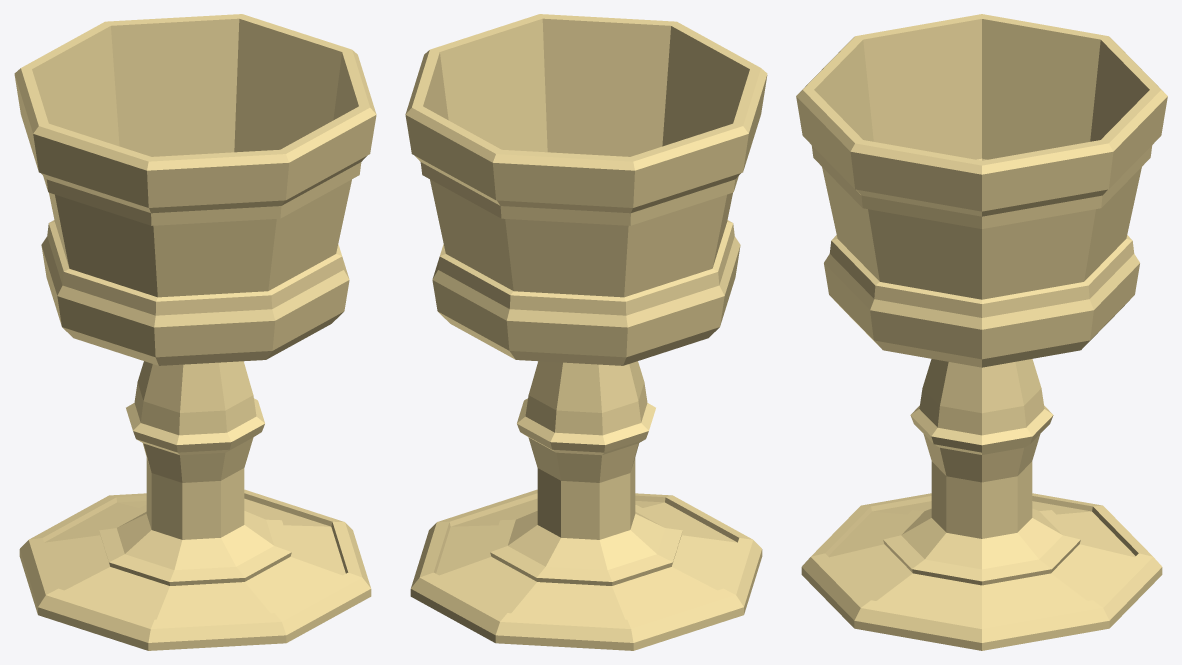
The model's file is goblet.fbx.
The picture shows the model from 3 angles, left to right: view 1: azimuth 30°, elevation 25°; view 2: azimuth 150°, elevation 25°; view 3: azimuth 270°, elevation 25°; orthographic projection.
Parts seen in each view (by area): view 1: goblet; view 2: goblet; view 3: goblet.
Part boxes in pixels (left/top/right/bottom): goblet: left=14, top=14, right=376, bottom=650; goblet: left=405, top=14, right=767, bottom=650; goblet: left=796, top=14, right=1167, bottom=650.
Size of the model in its own units: 0.1742 by 0.2507 by 0.1742.
